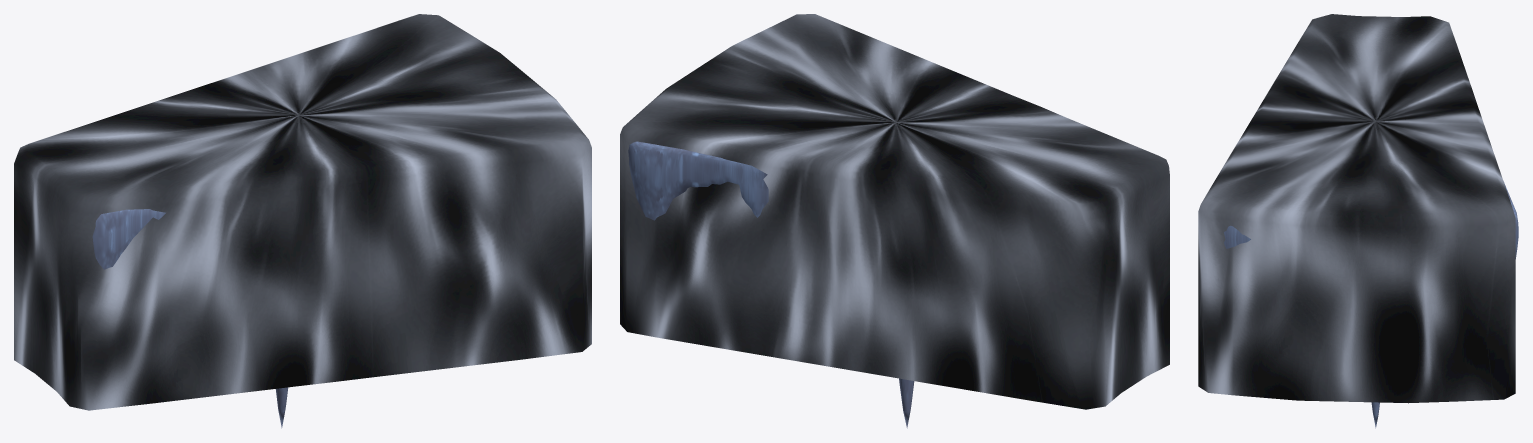
File: SM_AuroraStairs_Step1.glb
The picture shows the model from 3 angles, left to right: view 1: azimuth 30°, elevation 25°; view 2: azimuth 150°, elevation 25°; view 3: azimuth 270°, elevation 25°; orthographic projection. The views are drawn at different scales.
Parts seen in each view (by area): view 1: SM_AuroraStairs_Step1; view 2: SM_AuroraStairs_Step1; view 3: SM_AuroraStairs_Step1.
Boxes of the visible parts, x1,y1,x2,y2 form: SM_AuroraStairs_Step1: [14, 14, 591, 428]; SM_AuroraStairs_Step1: [620, 14, 1169, 428]; SM_AuroraStairs_Step1: [1198, 14, 1518, 428].
Size of the model in its own units: 0.8471 by 0.5286 by 0.5527.
2 materials, 2 textured.
